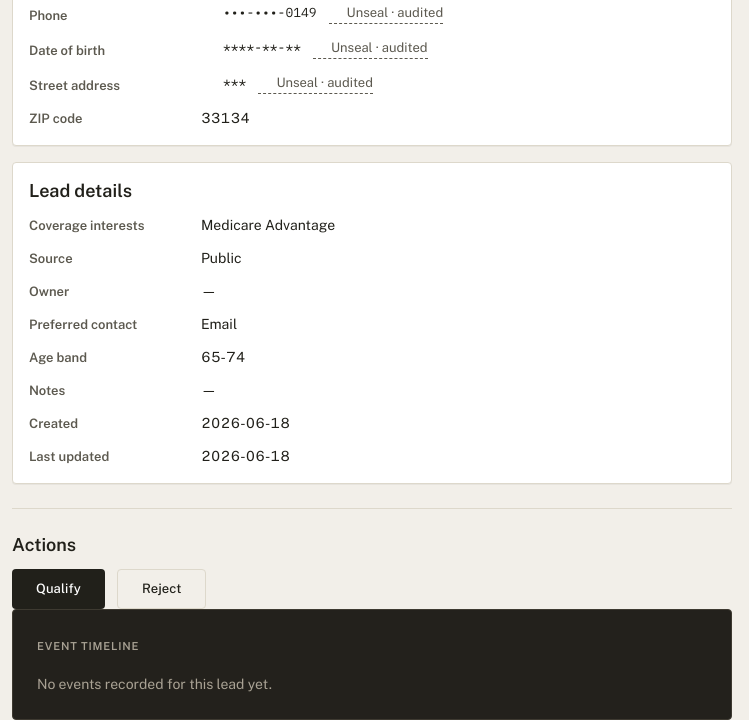
Test: LeadDetailPage qualify / reject actions › qualifies a Working lead and flips the status stamp
(page scrolled)
Click the button with id "lead-detail-qualify-button": click(58, 589) [12, 569, 105, 609]
(page scrolled)
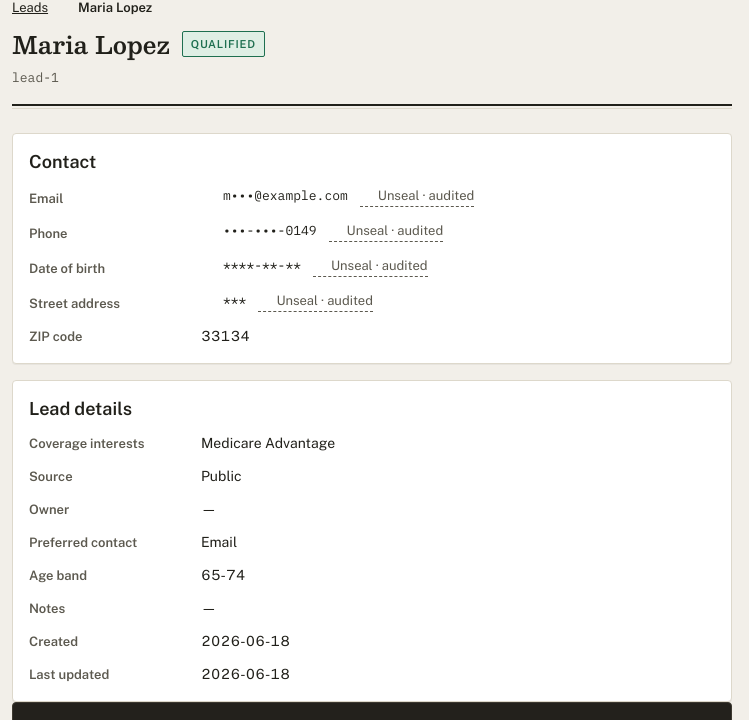
Now the text with id "lead-detail-status-stamp-label" reads "Qualified", box [191, 38, 256, 50]
Now the element with id "lead-detail-actions" is gone
